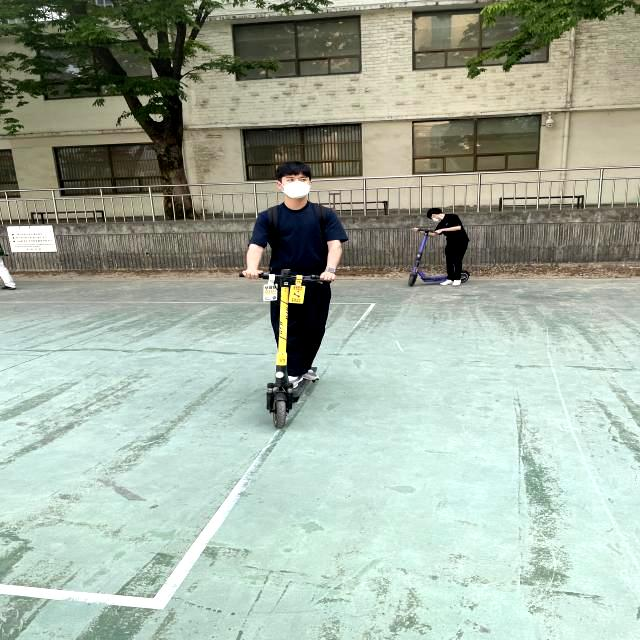bare_head: (270, 162, 323, 201)
human: (251, 143, 335, 382)
kickboard: (242, 371, 340, 428)
